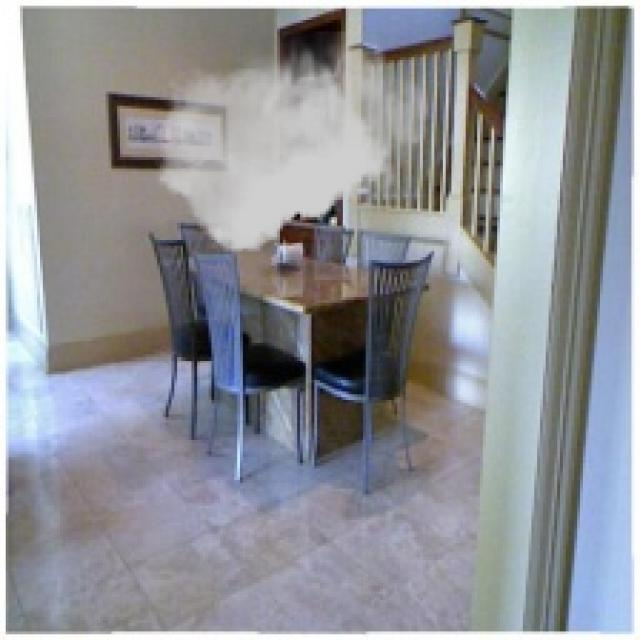Smoke: (154, 32, 429, 252)
